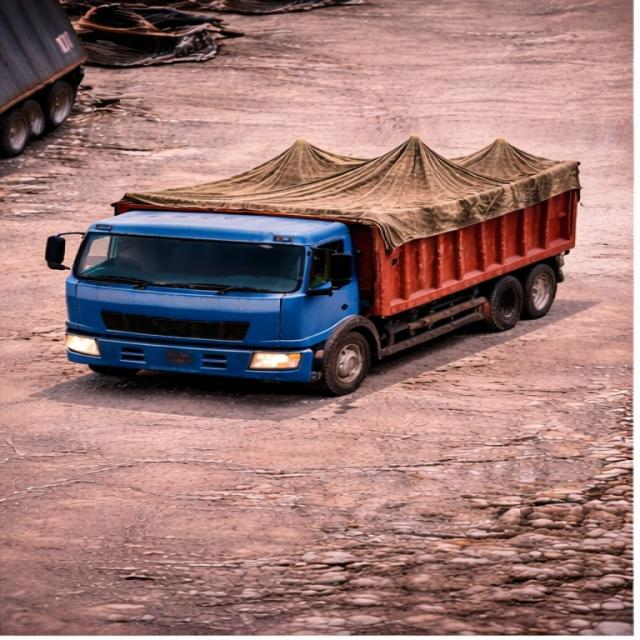Box: (118, 136, 584, 214)
Truck: (42, 117, 590, 394)
